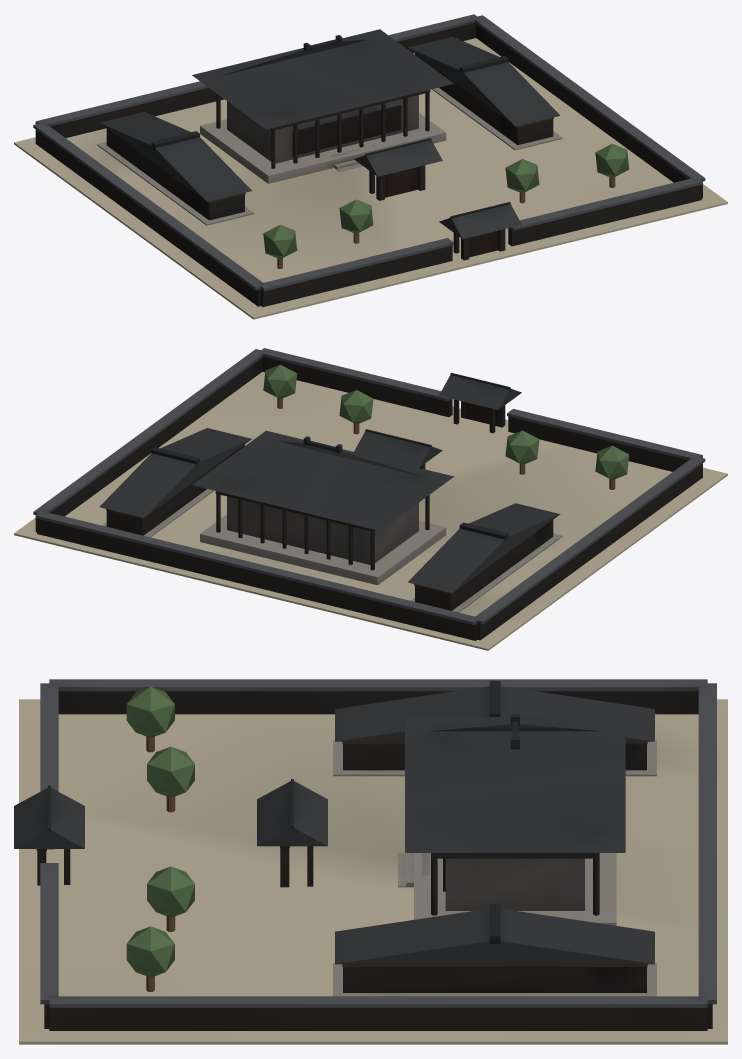
The model's file is yushima-seido.glb.
3 views of the same model, one above another, from view 1: azimuth 30°, elevation 25°; view 2: azimuth 150°, elevation 25°; view 3: azimuth 270°, elevation 25° (orthographic). The views are drawn at different scales.
Visible parts, largest first — view 1: p2_Taiseiden, p0_precinct, p1_walls; view 2: p2_Taiseiden, p0_precinct, p1_walls; view 3: p0_precinct, p2_Taiseiden, p1_walls.
Part boxes in pixels (left/top/right/bottom): p2_Taiseiden: left=97, top=29, right=629, bottom=268; p0_precinct: left=14, top=38, right=727, bottom=319; p1_walls: left=33, top=14, right=705, bottom=306; p2_Taiseiden: left=99, top=364, right=629, bottom=612; p0_precinct: left=14, top=372, right=727, bottom=650; p1_walls: left=33, top=348, right=705, bottom=640; p0_precinct: left=19, top=699, right=727, bottom=1044; p2_Taiseiden: left=126, top=681, right=656, bottom=996; p1_walls: left=14, top=679, right=716, bottom=1030.
Size of the model in its own units: 80 by 15.92 by 70.5.
